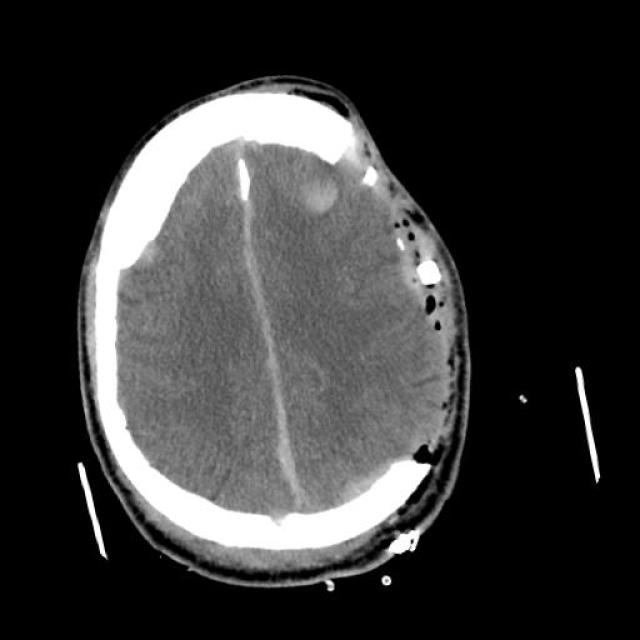Intraparenchymal: (282, 156, 356, 242)
Subdural: (210, 210, 334, 516)
